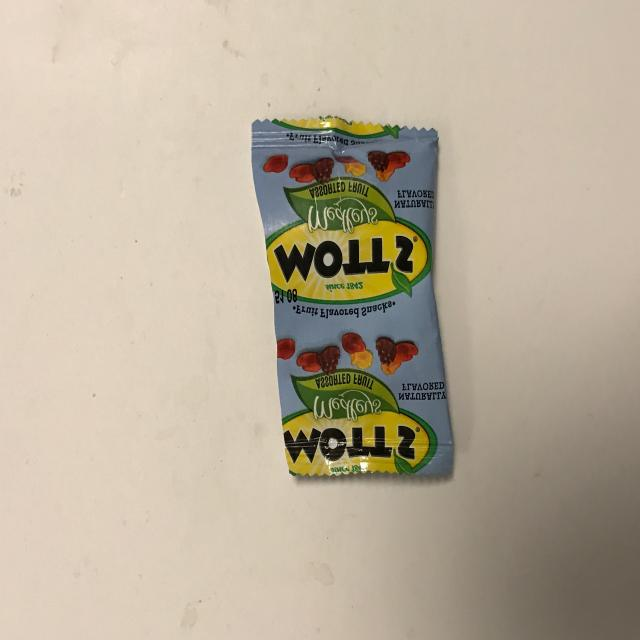trash: (250, 115, 455, 479)
